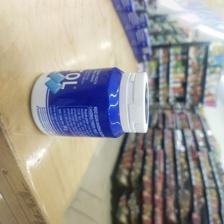Xylitol_blue: (26, 66, 156, 142)
